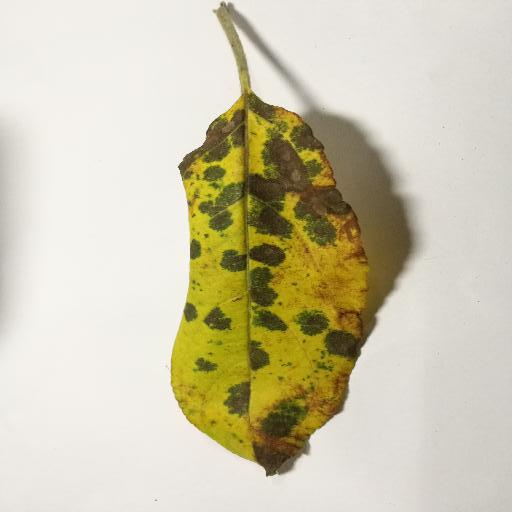Brown_Spot: (243, 118, 404, 244), (180, 106, 248, 179), (256, 402, 325, 471), (335, 300, 376, 354)
